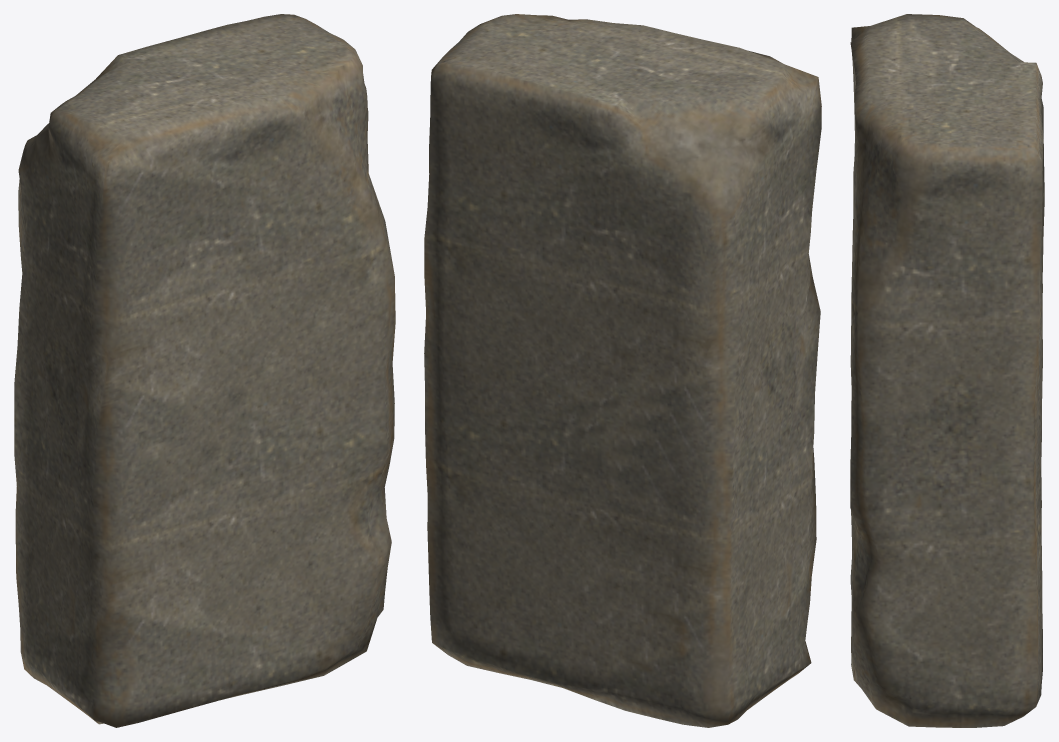
Rendered from Brick3_Gold.fbx.
The picture shows the model from 3 angles, left to right: view 1: azimuth 30°, elevation 25°; view 2: azimuth 150°, elevation 25°; view 3: azimuth 270°, elevation 25°; orthographic projection. The views are drawn at different scales.
Visible parts, largest first — view 1: Brick3; view 2: Brick3; view 3: Brick3.
Boxes of the visible parts, x1=… form: Brick3: x1=14, y1=14, x2=395, y2=727; Brick3: x1=424, y1=14, x2=821, y2=727; Brick3: x1=850, y1=14, x2=1044, y2=727.
Bounding box in the file's own units: 8.12 × 15.21 × 4.61.
